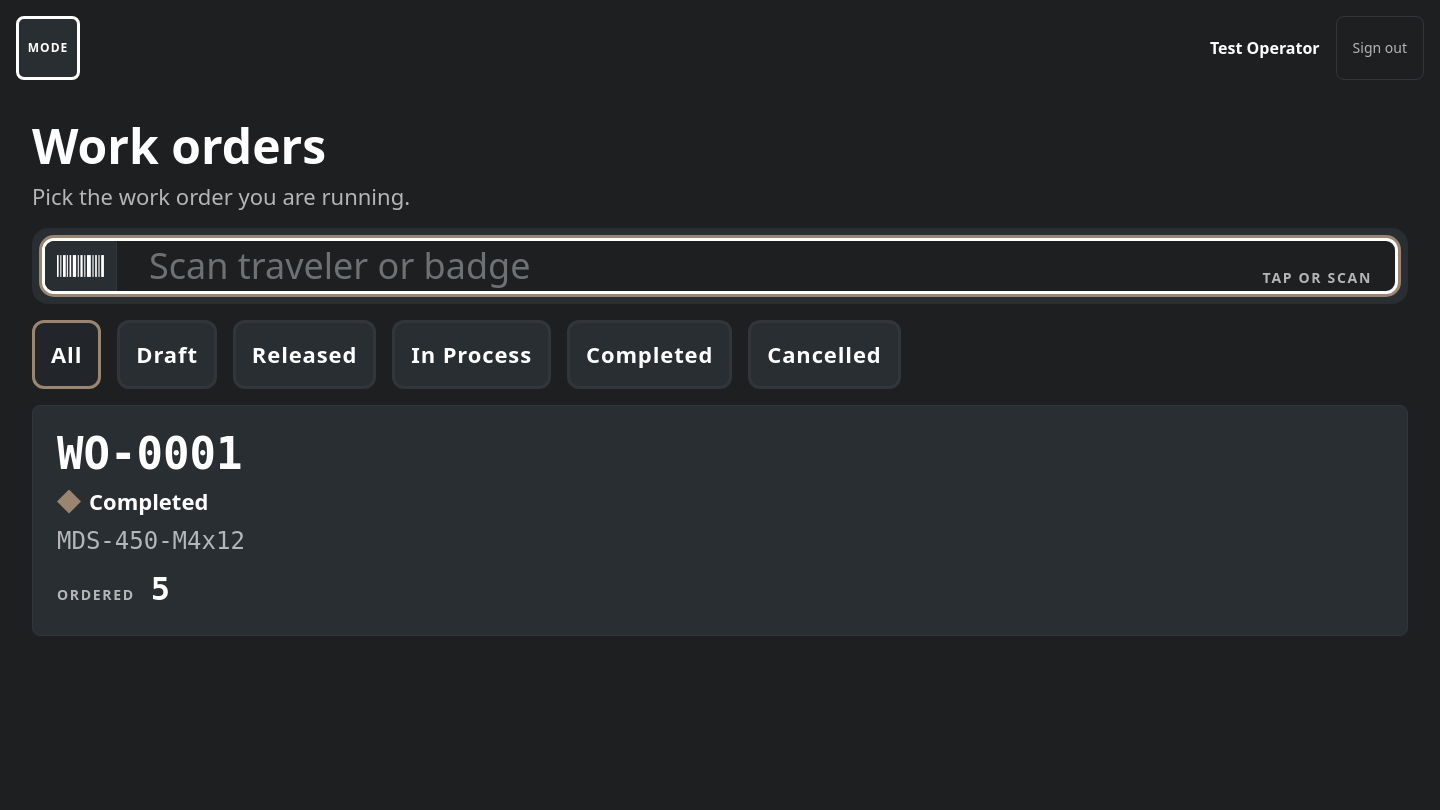
Test: floor work-order pick list › shows the honest lookup message for a scanned work-order number
Check: the link "WO-0001 Completed MDS-450-M4x12 ORDERED 5" is shown, box [32,405,1408,636]
Type "WO-0001" into the field labelled "Scan traveler or badge" at [756, 266], box [117,241,1395,291]
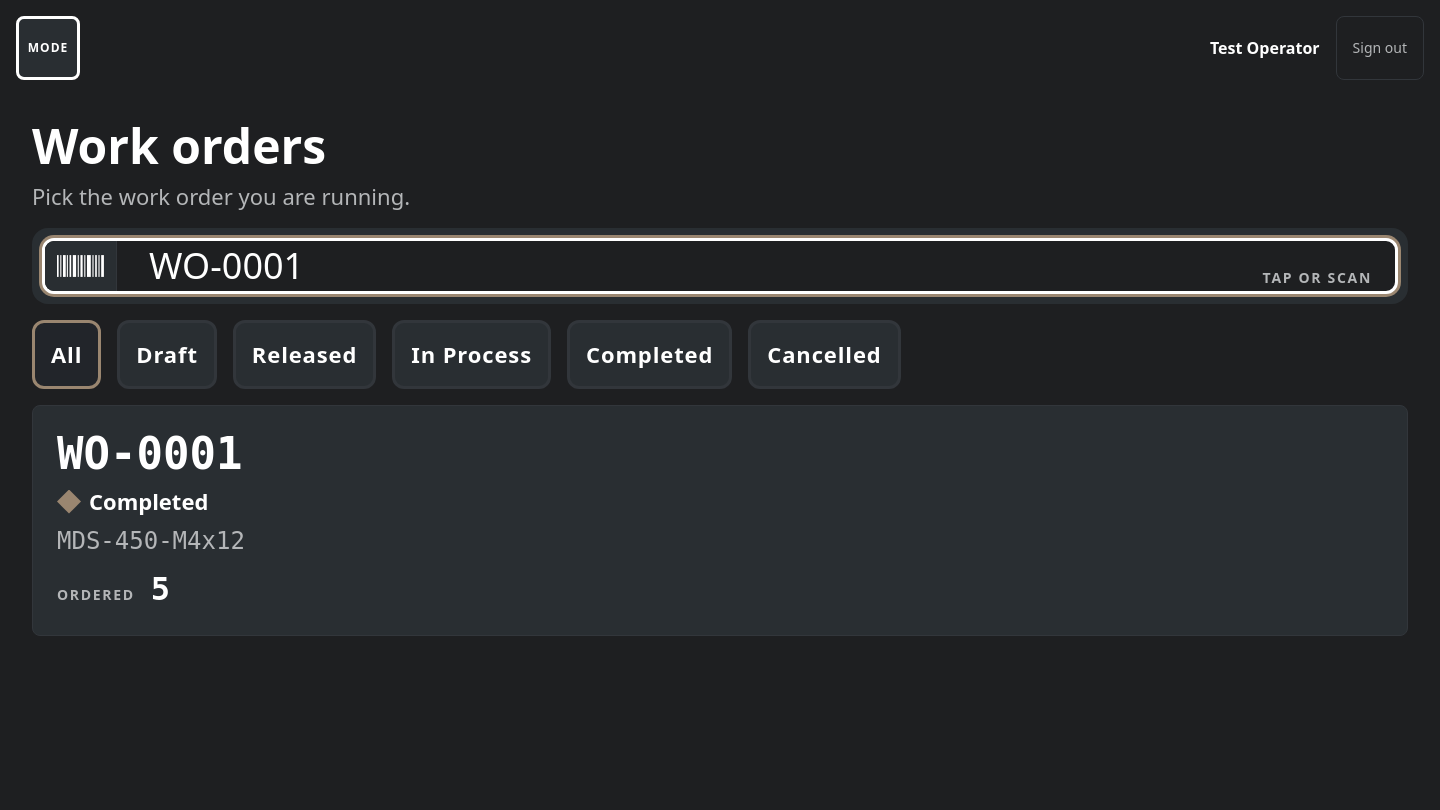
Click the button "TAP OR SCAN" at [1317, 278], box [1255,246,1380,310]
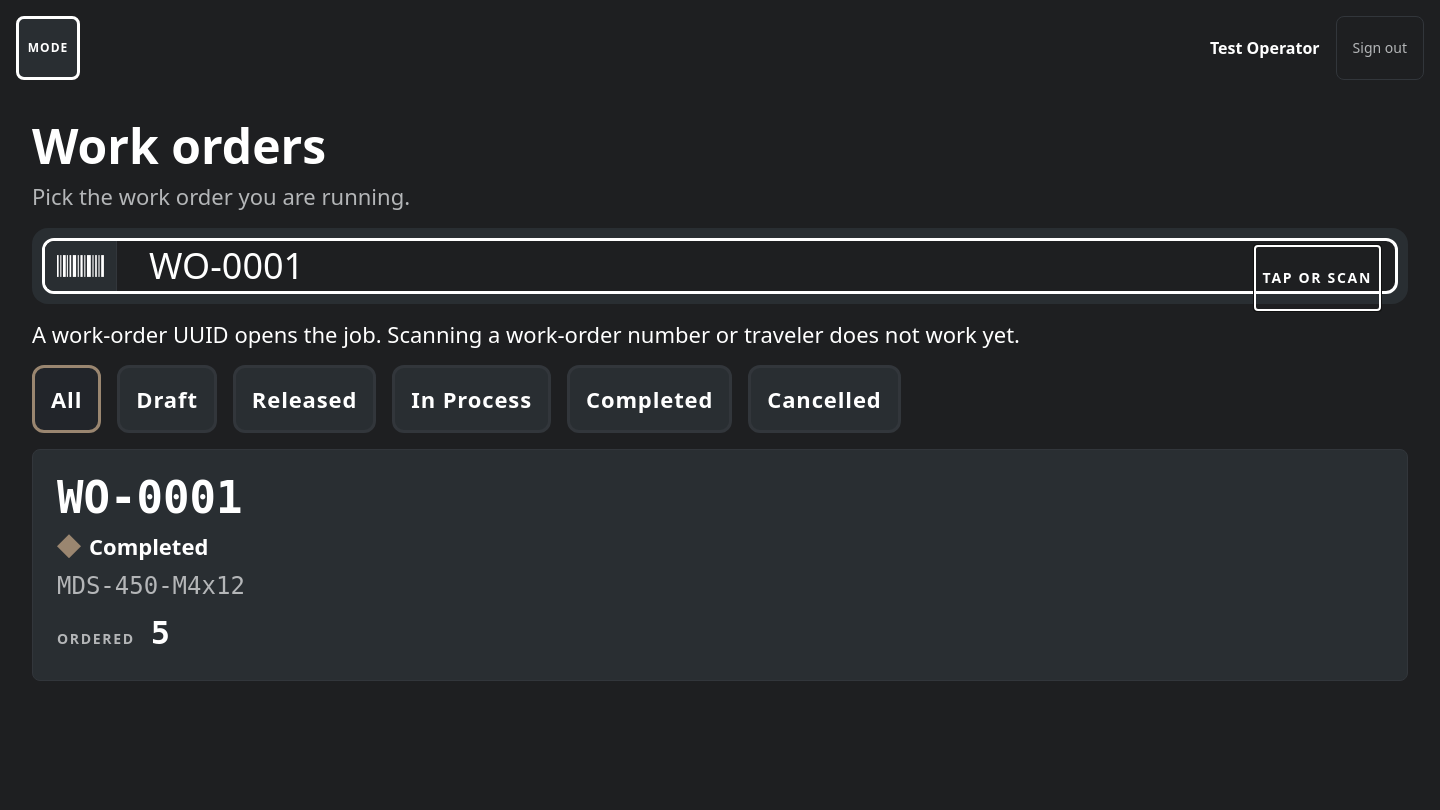
Check: the message shows "A work-order UUID opens the job. Scanning a work-order number or traveler does not work yet.", box [32,319,1020,349]
